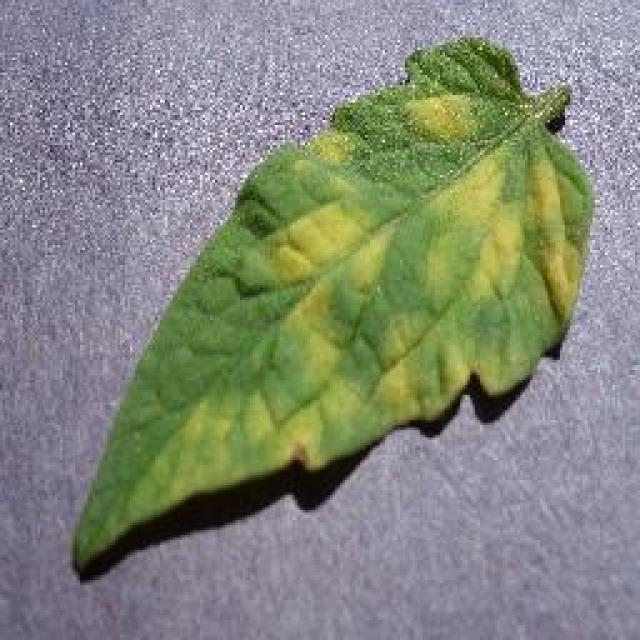Tomato___Leaf_Mold: (72, 38, 590, 572), (75, 38, 590, 572)
